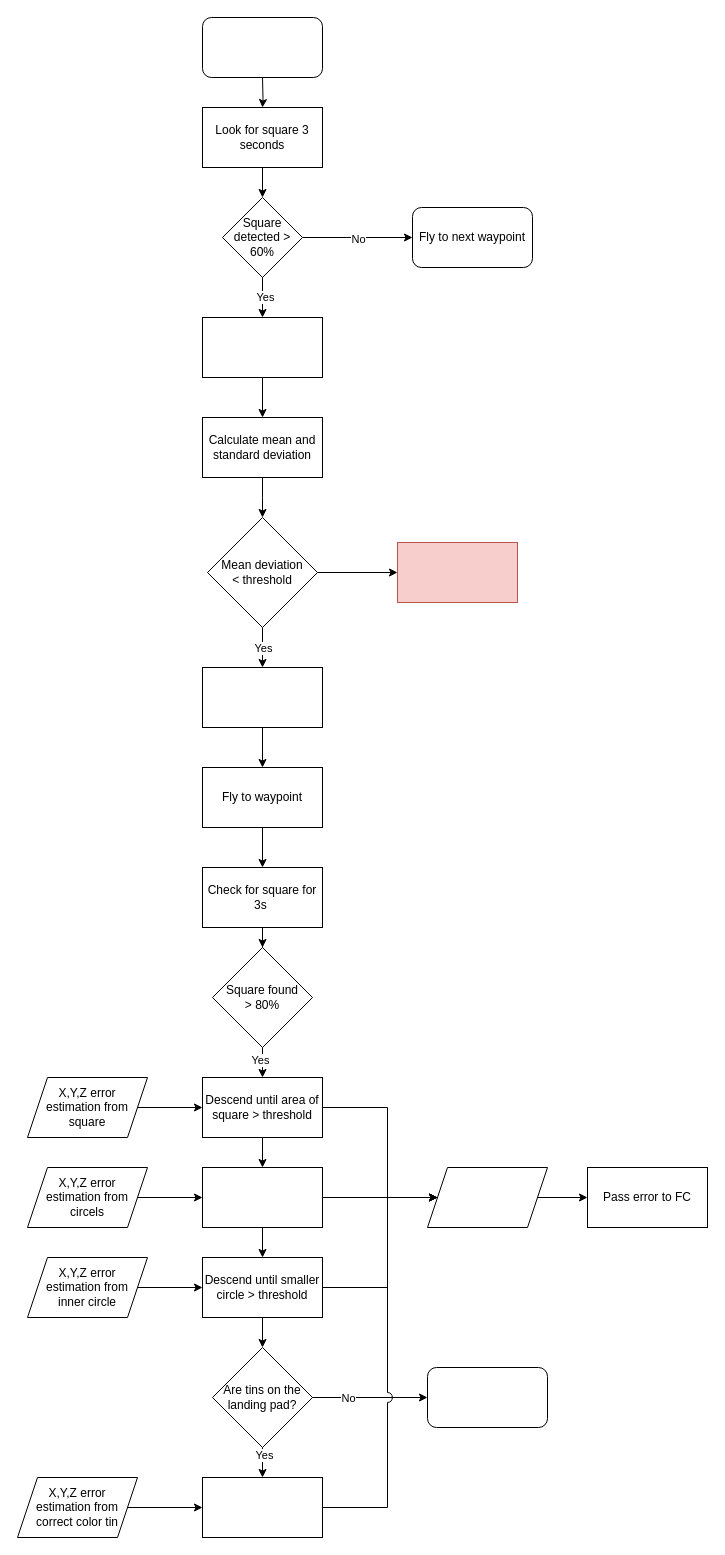
Image size: 725x1555. Some labels were removed from this diagram. The shapes that lost their labels are listed below. From the top down, each one's box as (x1, y1, x2, y2) in pixels, then its label:
(202, 16, 322, 78): Arrived at waypoint
(202, 316, 322, 378): Calculate detected square as x,y coordinates
(396, 542, 518, 602): Check if two squares in picture
(202, 666, 322, 728): Use mean coordinates to calculate new waypoint above target
(202, 1166, 322, 1228): Descend until bigger circle > threshold
(426, 1166, 548, 1228): Potentially fused X,Y,Z error
(426, 1366, 548, 1428): Goto next waypoint, but save position of drop off target
(202, 1476, 322, 1538): Descend using correct color tin
